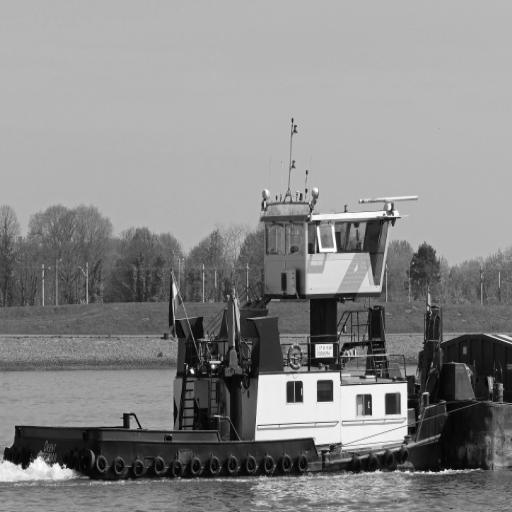tugboat: (2, 192, 465, 491)
